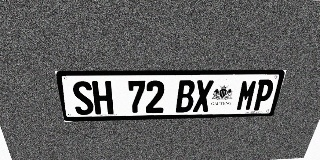2: (146, 80, 165, 113)
7: (127, 81, 145, 114)
B: (175, 80, 196, 112)
H: (92, 81, 113, 115)
M: (235, 80, 258, 111)
P: (251, 79, 275, 110)
S: (71, 81, 95, 115)
X: (193, 80, 214, 112)
